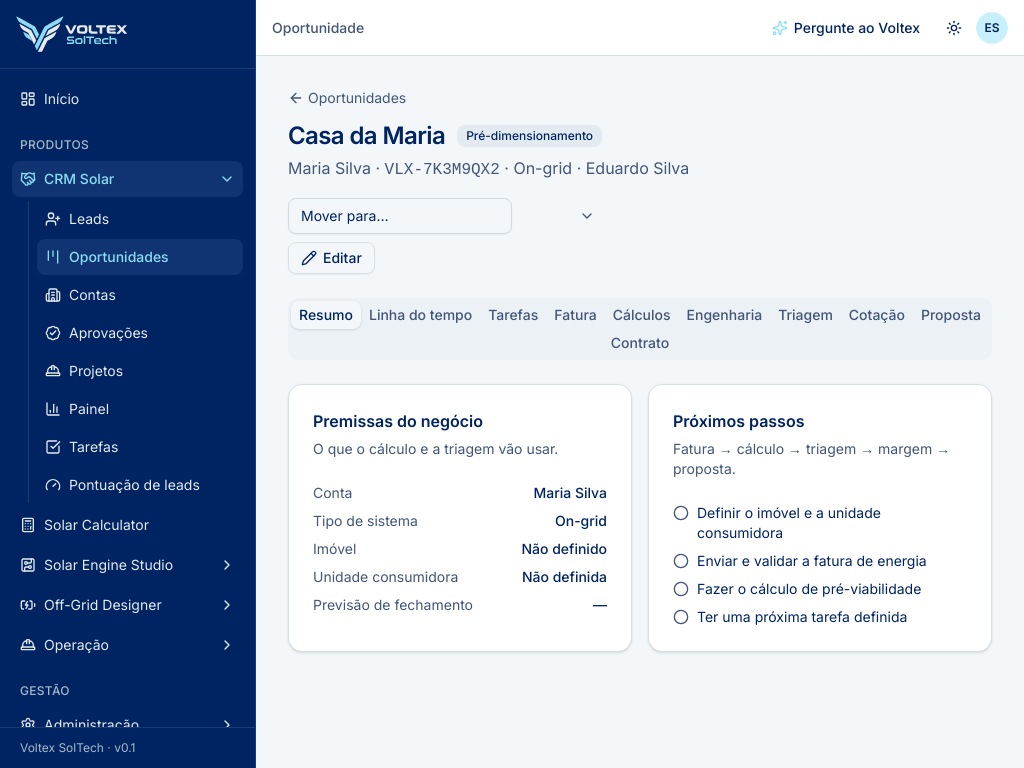
Scenario: Oportunidade · Triagem › sem avaliação, convida a avaliar; avaliar mostra o resultado
Click the tab "Triagem" at {"x": 805, "y": 315}, box [770,301,841,329]
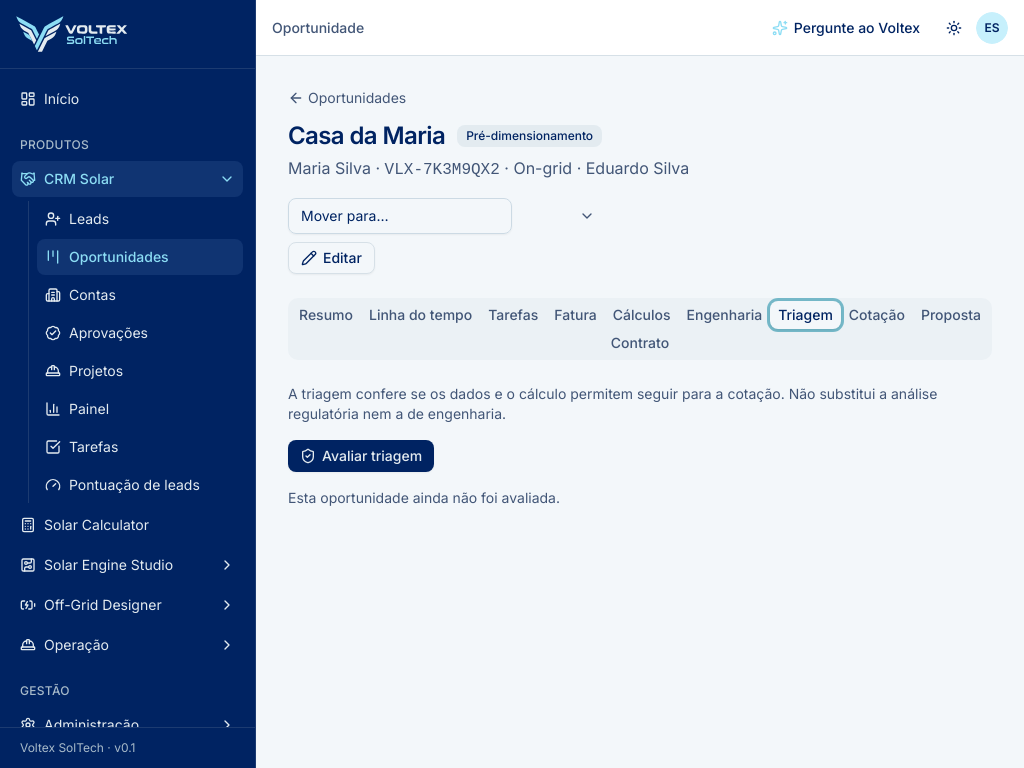
Result: the text "Esta oportunidade ainda não foi avaliada." is shown at [288,489,560,506]
Click the button "Avaliar triagem" at {"x": 361, "y": 456}, box [288,440,434,472]
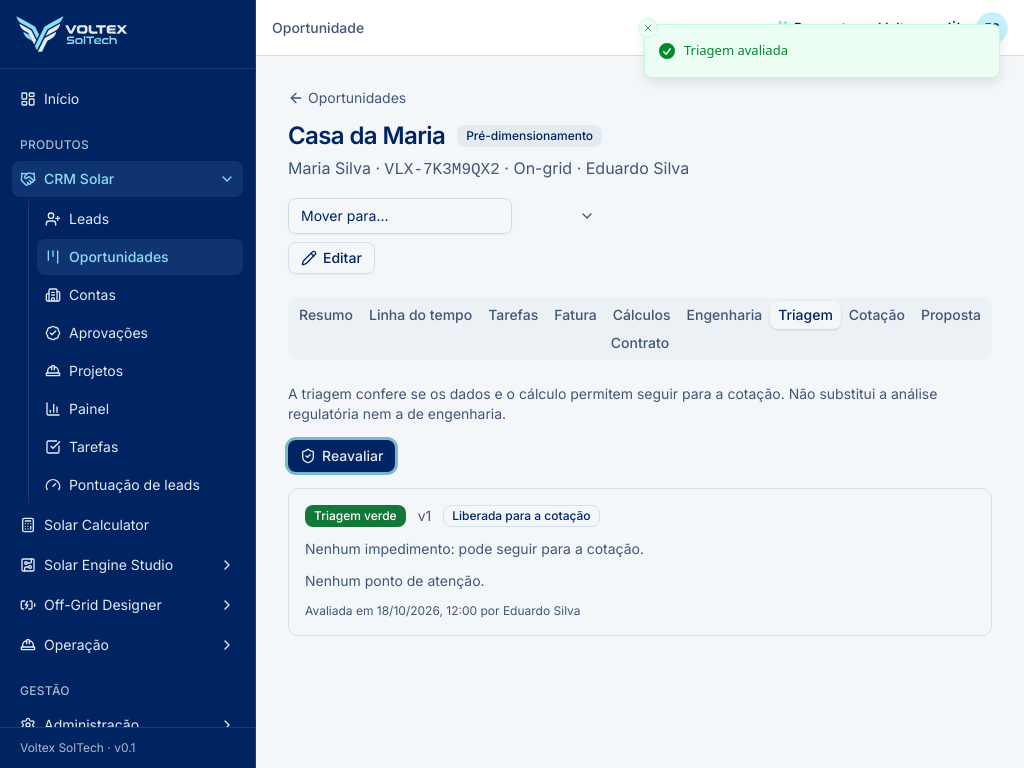
Result: the text "Triagem verde" is shown at [305,505,406,527]
Result: the text "Liberada para a cotação" is shown at [443,505,600,527]
Result: the button "Reavaliar" is shown at [288,440,395,472]
